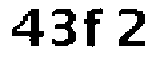2: (115, 6, 147, 53)
3: (47, 4, 80, 49)
4: (7, 5, 48, 51)
f: (81, 5, 106, 51)
